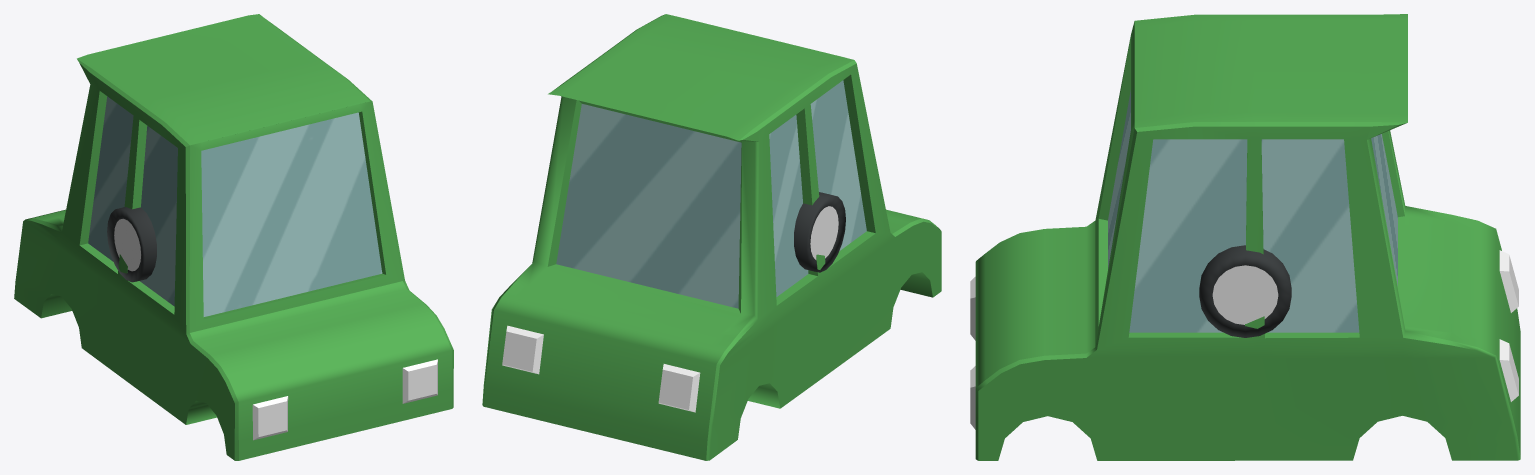
File: car_5_G.fbx
3 renders of one model, left to right at view 1: azimuth 30°, elevation 25°; view 2: azimuth 150°, elevation 25°; view 3: azimuth 270°, elevation 25°, orthographic. The views are drawn at different scales.
Parts seen in each view (by area): view 1: car_5_chasis_G, car_5_back_wheel_G, car_5_right_wheel_G; view 2: car_5_chasis_G, car_5_back_wheel_G, car_5_right_wheel_G; view 3: car_5_chasis_G, car_5_left_wheel_G.
Boxes of the visible parts, bbox=[...] form: car_5_chasis_G: bbox=[14, 14, 453, 460]; car_5_back_wheel_G: bbox=[107, 207, 150, 282]; car_5_right_wheel_G: bbox=[122, 209, 156, 280]; car_5_chasis_G: bbox=[482, 14, 941, 460]; car_5_back_wheel_G: bbox=[794, 195, 845, 272]; car_5_right_wheel_G: bbox=[794, 192, 833, 268]; car_5_chasis_G: bbox=[970, 14, 1520, 460]; car_5_left_wheel_G: bbox=[1199, 245, 1291, 337].
Size of the model in its own units: 103 by 121 by 183.
